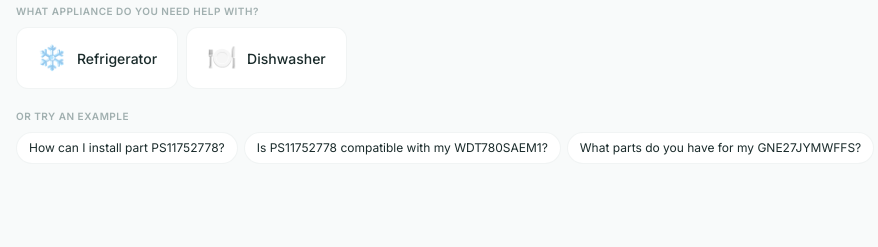
Test: shows options after selecting Dishwasher
This screenshot has width=878, height=247.
Step 1. Click the text "Dishwasher" → (286, 58), box [247,48,326,68]
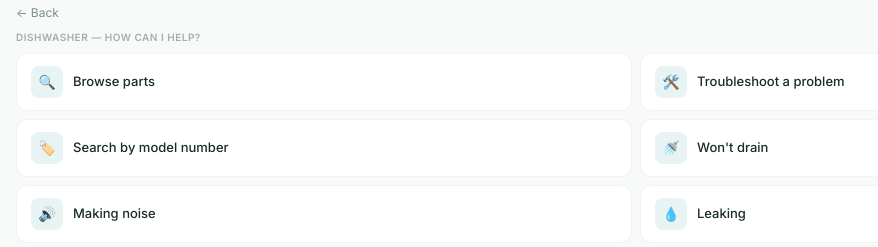
Check: the text "Browse parts" is shown, box [73,72,155,92]
Check: the text "Won't drain" is shown, box [697,138,768,158]
Check: the text "Making noise" is shown, box [73,204,156,224]
